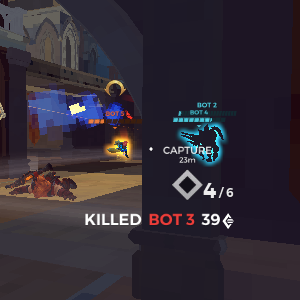model: (111, 135, 132, 158)
